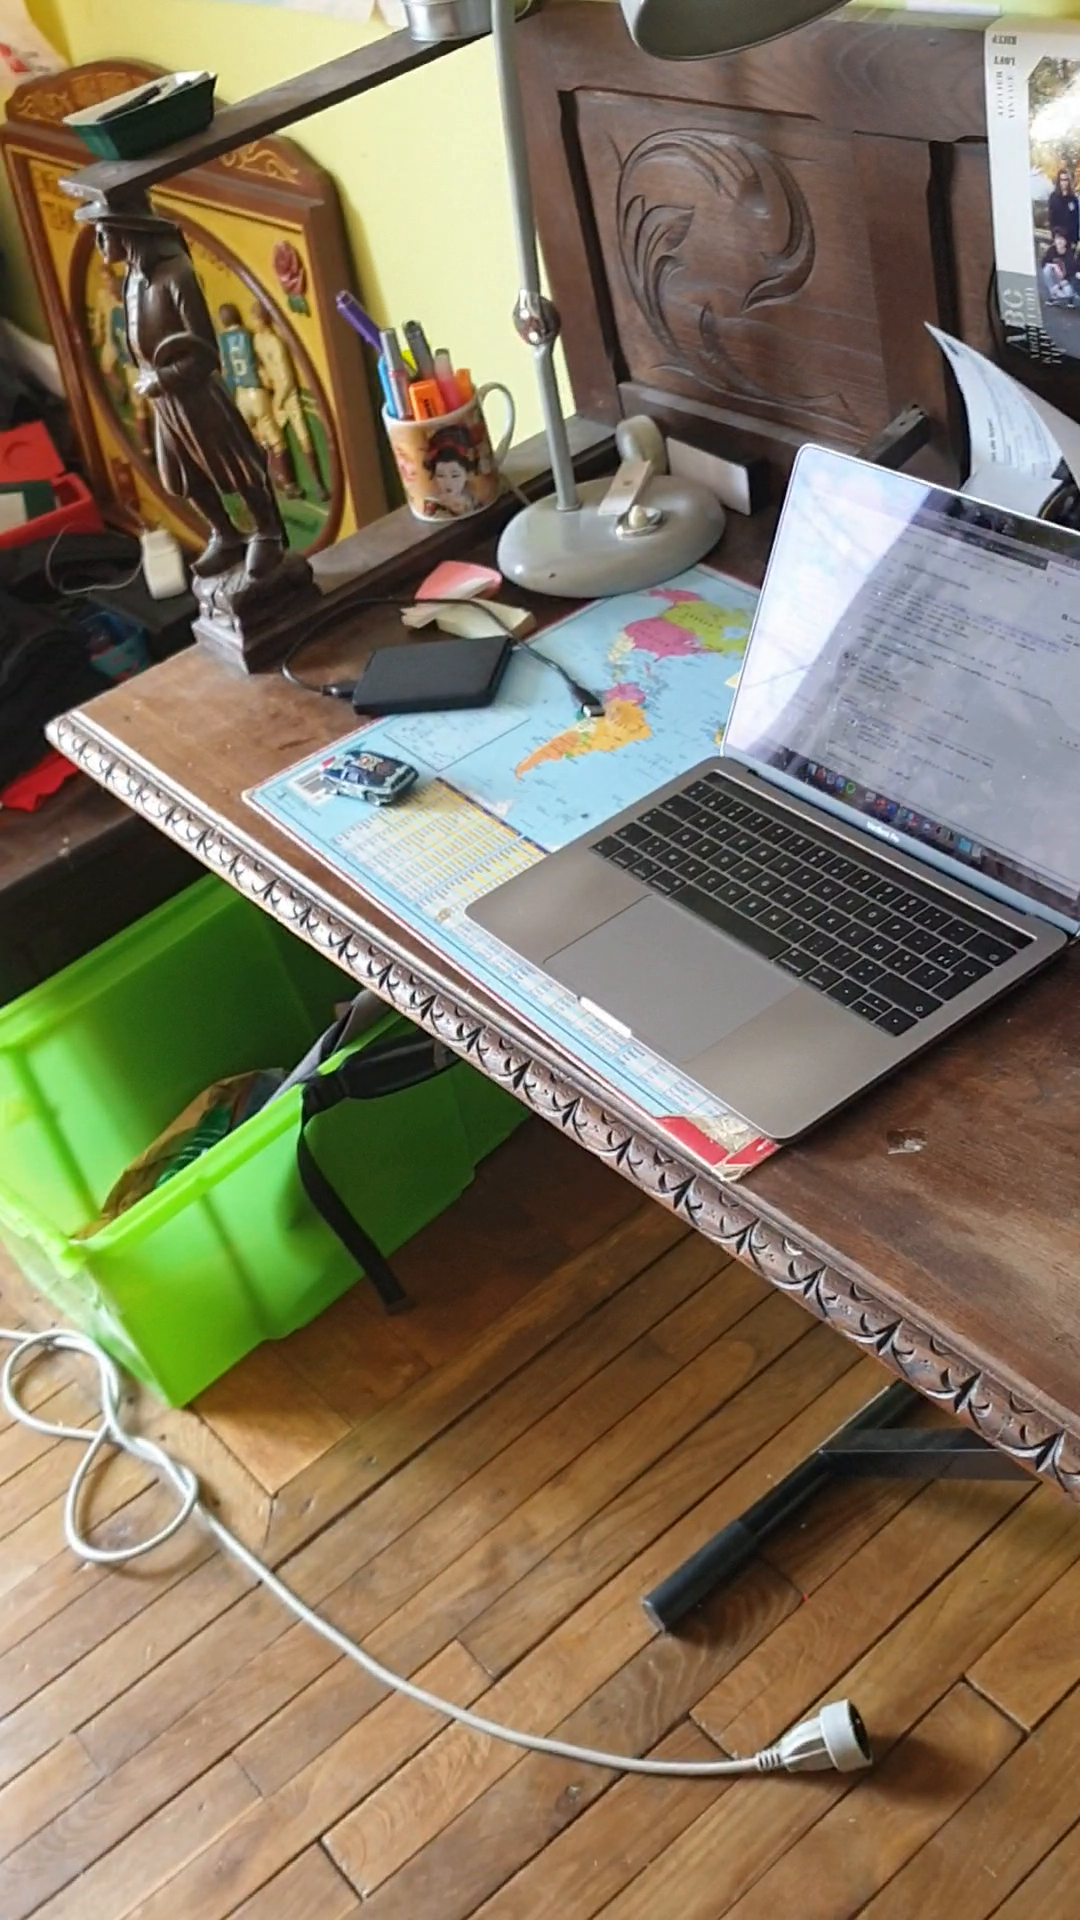cars: (318, 749, 419, 800)
